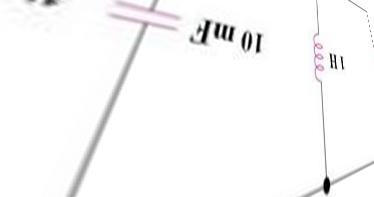inductor: (307, 11, 329, 93)
